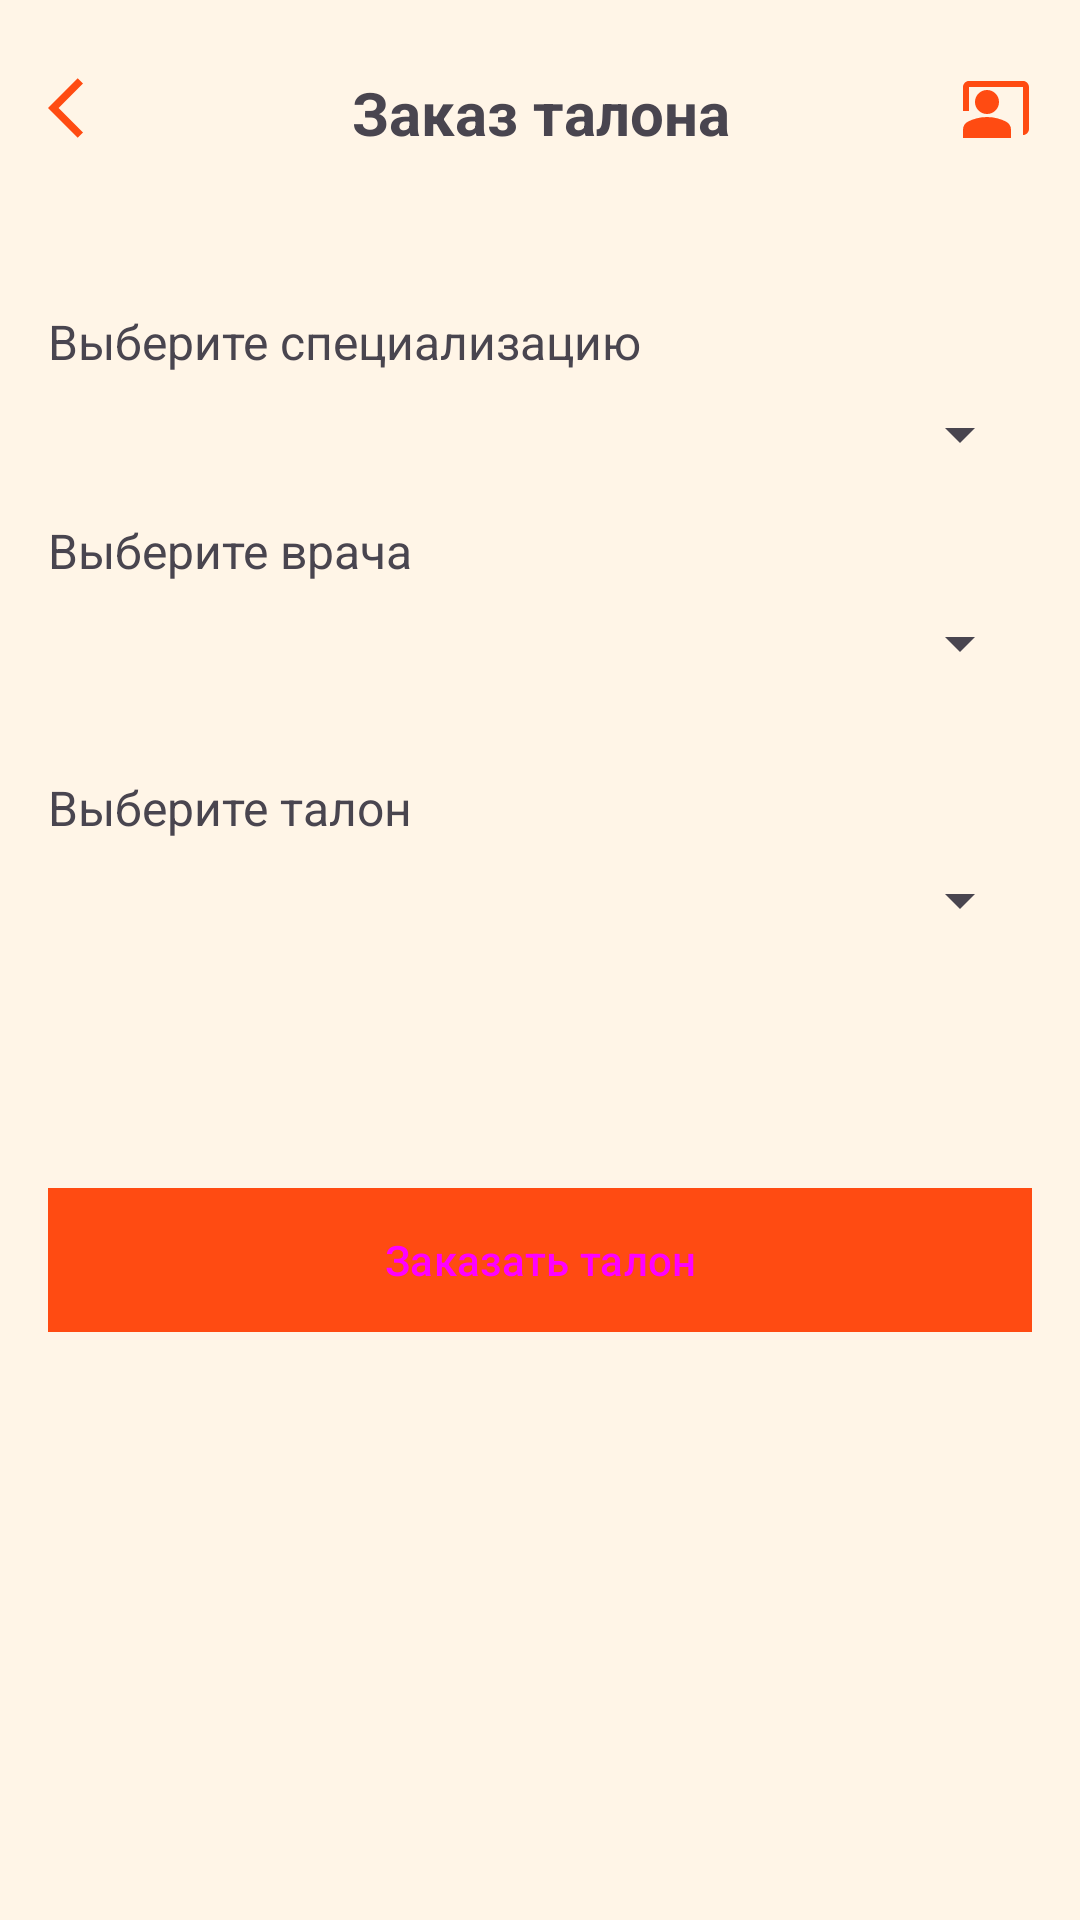

Screen size 1080px×1920px. Icon name, then its center in pixels as [x,y]:
Назад: [65,108]
Профиль: [996,109]
